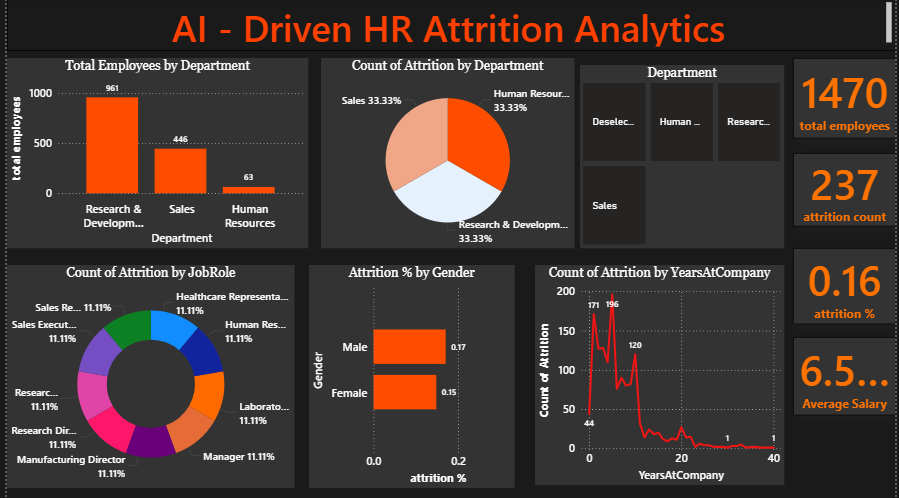

This screenshot's page, from the dashboard's own definition file:
{"tool":"powerbi","page":{"name":"Page 1","canvas":[1280,720],"ordinal":0},"visuals":[{"type":"card","fields":{"Values":["HR-Employee-Attriti.attrition %"]},"box":[1131.2,360,148.8,110],"z":0},{"type":"card","fields":{"Values":["HR-Employee-Attriti.attrition count"]},"box":[1131.2,223.8,148.8,106.2],"z":1000},{"type":"card","fields":{"Values":["HR-Employee-Attriti.total employees"]},"box":[1131.2,86.2,148.8,116.2],"z":2000},{"type":"columnChart","title":"Total Employees by Department","fields":{"Category":["HR-Employee-Attriti.Department"],"Y":["HR-Employee-Attriti.total employees"]},"box":[0,86.2,433.8,273.8],"z":3000},{"type":"textbox","box":[0,0,1280.2,76.3],"z":4000},{"type":"pieChart","fields":{"Category":["HR-Employee-Attriti.Department"],"Y":["Count(HR-Employee-Attriti.Attrition)"]},"box":[452.5,86.2,365,273.8],"z":5000},{"type":"card","fields":{"Values":["HR-Employee-Attriti.Average Salary"]},"box":[1131.2,488.8,148.8,112.5],"z":6000},{"type":"donutChart","fields":{"Y":["Count(HR-Employee-Attriti.Attrition)"],"Category":["HR-Employee-Attriti.JobRole"]},"box":[0,384.3,414.3,321.4],"z":7000},{"type":"barChart","title":"Attrition % by Gender","fields":{"Category":["HR-Employee-Attriti.Gender"],"Y":["HR-Employee-Attriti.attrition %"]},"box":[434.3,384.3,295.7,321.4],"z":8000},{"type":"lineChart","fields":{"Category":["HR-Employee-Attriti.YearsAtCompany"],"Y":["CountNonNull(HR-Employee-Attriti.Attrition)"]},"box":[760,384.3,358.6,317.1],"z":9000},{"type":"advancedSlicerVisual","fields":{"Values":["HR-Employee-Attriti.Department"]},"box":[825.1,96.5,293.8,263.5],"z":10000}]}

Visuals, with their boxes in screenshot pixels (x1, y1, x2, y2), scaled from the page's 1280x720 canvas onto the 899x498 screenshot:
card - HR-Employee-Attriti.attrition %: {"left": 794, "top": 249, "right": 898, "bottom": 325}
card - HR-Employee-Attriti.attrition count: {"left": 794, "top": 155, "right": 898, "bottom": 228}
card - HR-Employee-Attriti.total employees: {"left": 794, "top": 60, "right": 898, "bottom": 140}
"Total Employees by Department" columnChart: {"left": 0, "top": 60, "right": 305, "bottom": 249}
textbox: {"left": 0, "top": 0, "right": 898, "bottom": 53}
pieChart - HR-Employee-Attriti.Department x Count(HR-Employee-Attriti.Attrition): {"left": 318, "top": 60, "right": 574, "bottom": 249}
card - HR-Employee-Attriti.Average Salary: {"left": 794, "top": 338, "right": 898, "bottom": 416}
donutChart - Count(HR-Employee-Attriti.Attrition) x HR-Employee-Attriti.JobRole: {"left": 0, "top": 266, "right": 291, "bottom": 488}
"Attrition % by Gender" barChart: {"left": 305, "top": 266, "right": 513, "bottom": 488}
lineChart - HR-Employee-Attriti.YearsAtCompany x CountNonNull(HR-Employee-Attriti.Attrition): {"left": 534, "top": 266, "right": 786, "bottom": 485}
advancedSlicerVisual - HR-Employee-Attriti.Department: {"left": 580, "top": 67, "right": 786, "bottom": 249}
